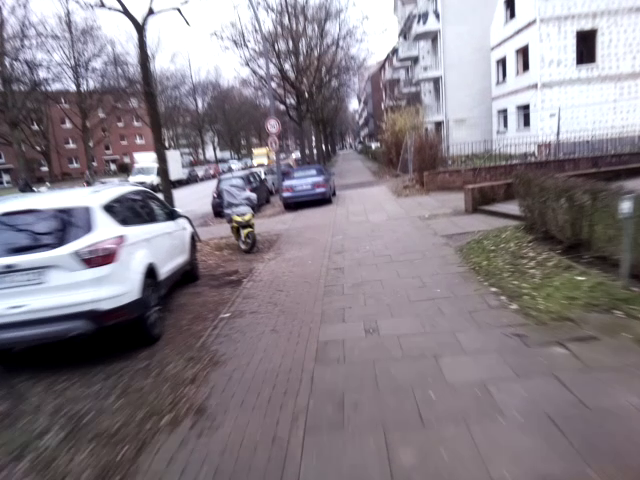car: (279, 158, 337, 209)
